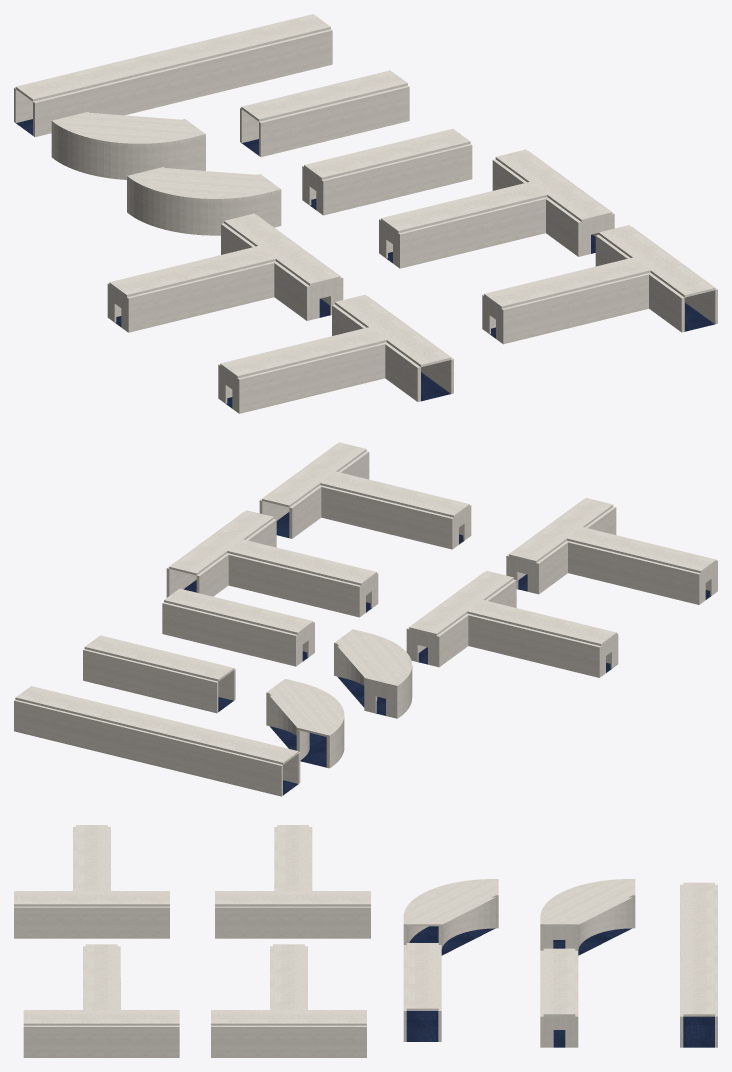
The model's file is new_hallways 2.fbx.
3 views of the same model, one above another, from view 1: azimuth 30°, elevation 25°; view 2: azimuth 150°, elevation 25°; view 3: azimuth 270°, elevation 25° (orthographic). The views are drawn at different scales.
Parts seen in each view (by area): view 1: straight_hallway.003, Split_hallway.001, Split_hallway.003, Split_hallway.002, Split_hallway, straight_hallway, straight_hallway.001, turn_corridor, turn_corridtor; view 2: straight_hallway.003, Split_hallway.002, Split_hallway.003, Split_hallway.001, Split_hallway, straight_hallway, straight_hallway.001, turn_corridtor, turn_corridor; view 3: Split_hallway.002, Split_hallway.001, Split_hallway, Split_hallway.003, straight_hallway.003, turn_corridor, turn_corridtor, straight_hallway.001, straight_hallway.
Boxes of the visible parts, bbox=[...] form: straight_hallway.003: bbox=[14, 14, 332, 136]; Split_hallway.001: bbox=[482, 225, 717, 344]; Split_hallway.003: bbox=[218, 294, 453, 413]; Split_hallway.002: bbox=[107, 213, 343, 332]; Split_hallway: bbox=[379, 149, 614, 268]; straight_hallway: bbox=[302, 129, 472, 215]; straight_hallway.001: bbox=[240, 70, 409, 156]; turn_corridor: bbox=[51, 111, 205, 179]; turn_corridtor: bbox=[127, 167, 281, 235]; straight_hallway.003: bbox=[14, 686, 300, 796]; Split_hallway.002: bbox=[406, 570, 618, 677]; Split_hallway.003: bbox=[506, 498, 717, 604]; Split_hallway.001: bbox=[259, 442, 471, 549]; Split_hallway: bbox=[166, 510, 378, 617]; straight_hallway: bbox=[162, 588, 314, 666]; straight_hallway.001: bbox=[83, 635, 235, 713]; turn_corridtor: bbox=[334, 629, 412, 718]; turn_corridor: bbox=[266, 679, 344, 768]; Split_hallway.002: bbox=[215, 825, 370, 938]; Split_hallway.001: bbox=[23, 944, 179, 1057]; Split_hallway: bbox=[211, 944, 366, 1057]; Split_hallway.003: bbox=[14, 825, 169, 938]; straight_hallway.003: bbox=[680, 882, 717, 1047]; turn_corridor: bbox=[540, 879, 635, 955]; turn_corridtor: bbox=[403, 879, 498, 955]; straight_hallway.001: bbox=[540, 948, 578, 1047]; straight_hallway: bbox=[403, 943, 441, 1041].
Bounding box in the file's own units: 59.3 × 4.6 × 88.29.
Materials: 2 (2 with a texture image).
